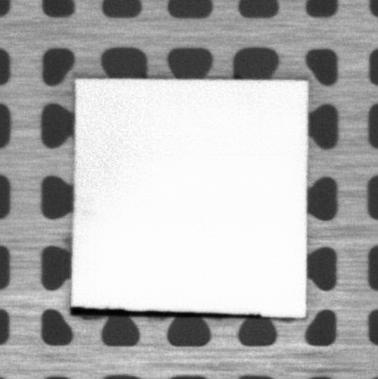DIE_BROKEN: (68, 304, 263, 320)
